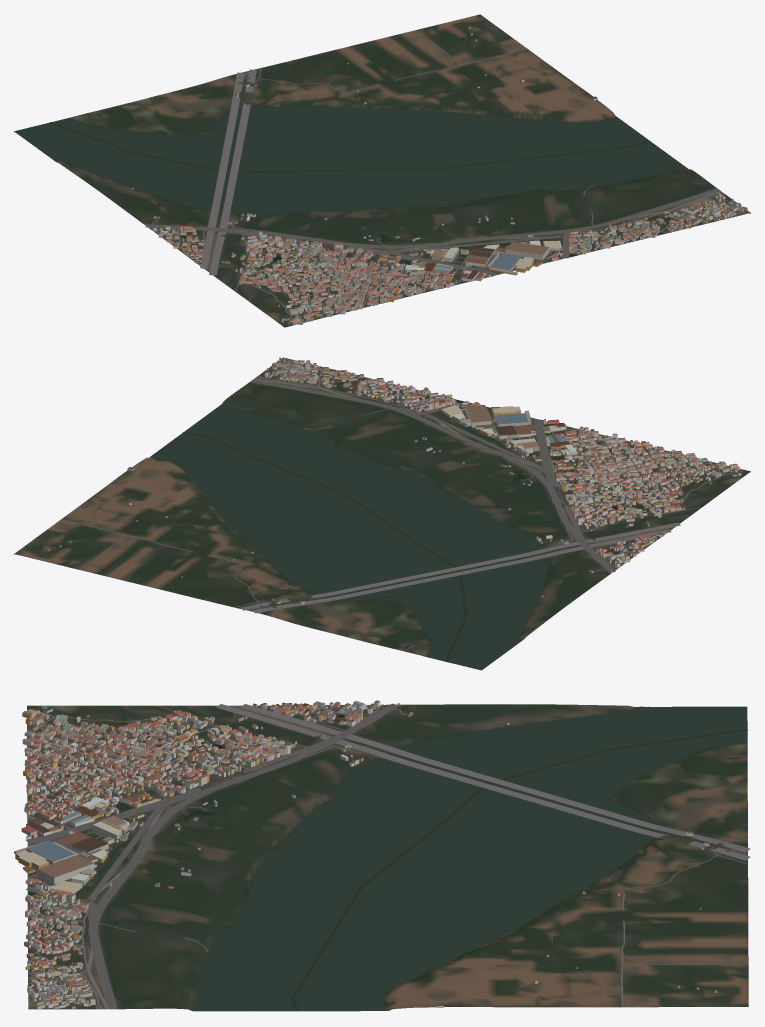
The picture shows the model from 3 angles, top to bottom: view 1: azimuth 30°, elevation 25°; view 2: azimuth 150°, elevation 25°; view 3: azimuth 270°, elevation 25°; orthographic projection. The views are drawn at different scales.
Visible parts, largest first — view 1: ground, water, buildings, roads; view 2: ground, water, buildings, roads; view 3: ground, water, buildings, roads.
Boxes of the visible parts, x1,y1,x2,y2 form: ground: (14, 14, 750, 327); water: (15, 105, 687, 264); buildings: (131, 27, 747, 324); roads: (145, 30, 741, 324); ground: (14, 357, 750, 670); water: (150, 399, 618, 669); buildings: (47, 357, 741, 604); roads: (61, 361, 742, 616); ground: (27, 704, 748, 1011); water: (28, 706, 747, 1010); buildings: (14, 700, 717, 1009); roads: (25, 703, 750, 1009).
Size of the model in its own units: 1410 by 25.73 by 1434.
